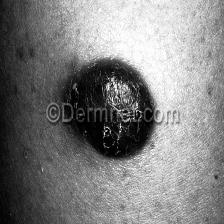Benign Marking or Mole: (65, 60, 156, 156)
